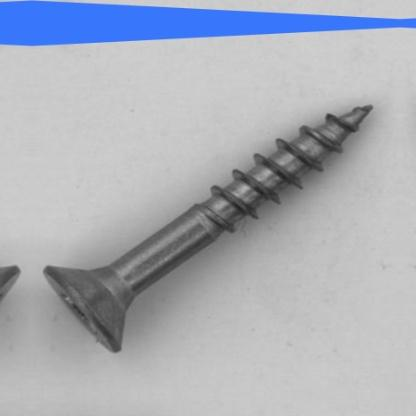metal: (42, 103, 373, 353)
